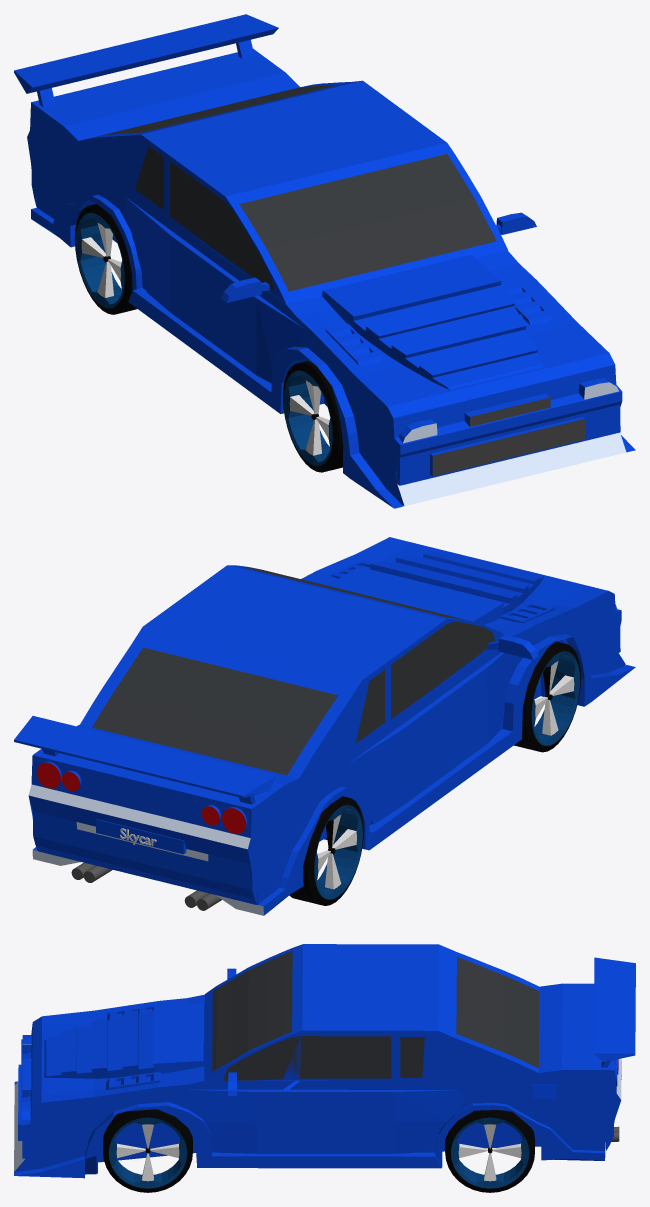
File: skylineblend.fbx
The picture shows the model from 3 angles, top to bottom: view 1: azimuth 30°, elevation 25°; view 2: azimuth 150°, elevation 25°; view 3: azimuth 270°, elevation 25°; orthographic projection. The views are drawn at different scales.
Visible parts, largest first — view 1: skylinee, sagon, sagark; view 2: skylinee, sagark, sagon; view 3: skylinee, solon, solark.
Boxes of the visible parts, x1,y1,x2,y2 form: skylinee: (14,14,635,508); sagon: (283,361,343,472); sagark: (75,204,136,314); skylinee: (14,537,635,915); sagark: (289,796,363,905); sagon: (514,641,580,752); skylinee: (14,944,635,1178); solon: (103,1109,192,1192); solark: (445,1110,534,1192).
Size of the model in its own units: 136 by 83.25 by 295.
